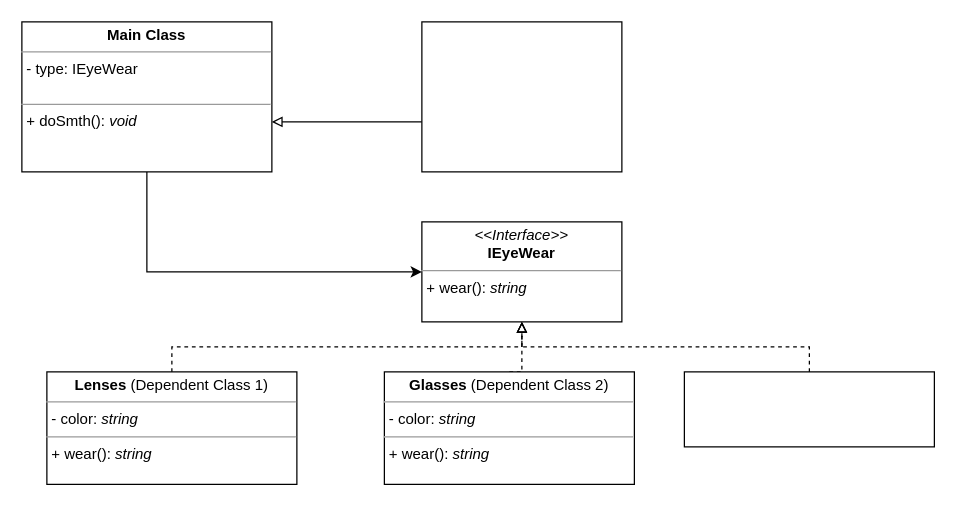
This 956x506 diagram has some shape labels left out. The centre of each missing label's shape, as x and y in pixels:
"Human - eyeWear: IEyeWear + speak(): string" goes at (521,96).
"VRBox (Dependent Class 3) + wear(): string" goes at (808,409).
